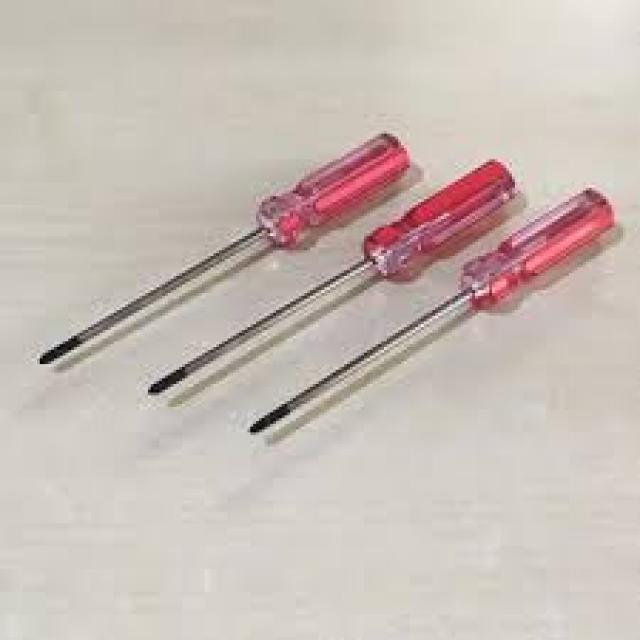screwdriver: (244, 178, 620, 436), (143, 156, 520, 402), (34, 130, 415, 368)
